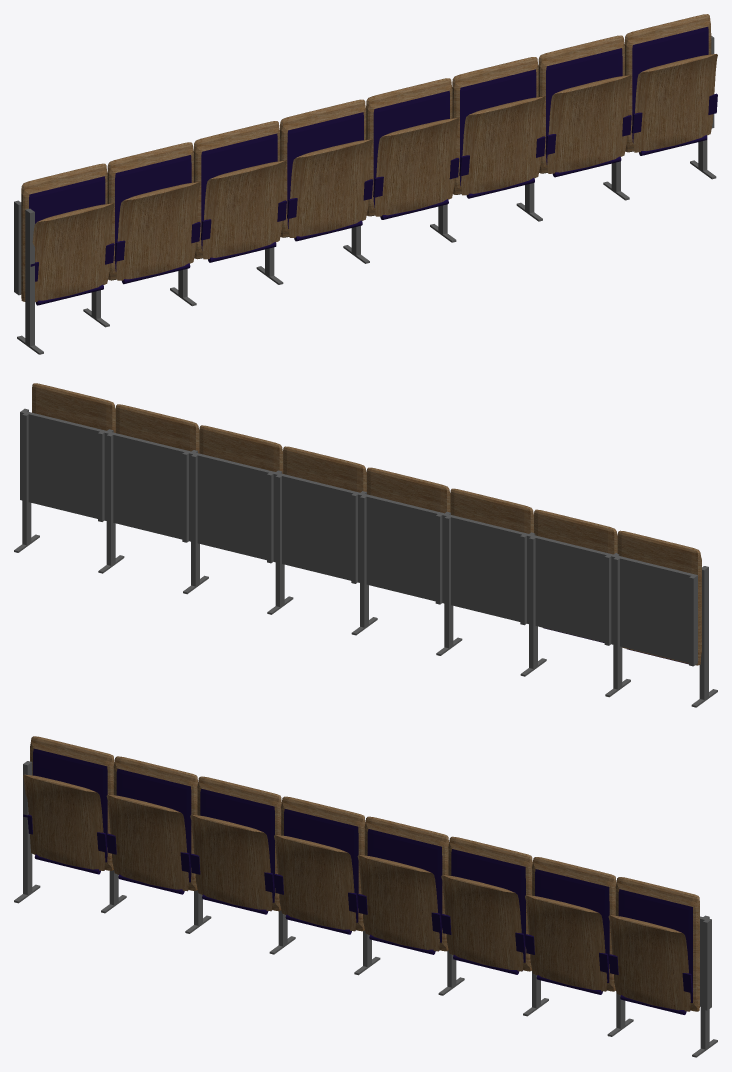
Rendered from audi_B_row.fbx.
The picture shows the model from 3 angles, top to bottom: view 1: azimuth 30°, elevation 25°; view 2: azimuth 150°, elevation 25°; view 3: azimuth 330°, elevation 25°; orthographic projection. The views are drawn at different scales.
Visible parts, largest first — view 1: Cube.008, Cube.001, end.001; view 2: Cube.001, Cube.008, end.001; view 3: Cube.008, Cube.001, end.001.
Boxes of the visible parts, x1,y1,x2,y2 form: Cube.008: (21,14,717,305); Cube.001: (14,36,716,327); end.001: (17,208,43,354); Cube.001: (14,408,697,697); Cube.008: (32,383,701,665); end.001: (691,566,717,707); Cube.008: (23,736,699,1014); Cube.001: (101,870,717,1057); end.001: (14,761,40,903).
Size of the model in its own units: 1608 by 359 by 135.
